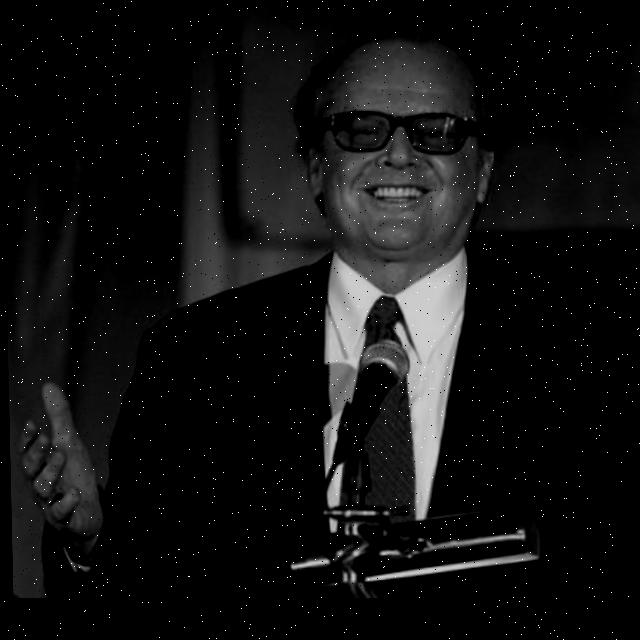face: (309, 29, 490, 266)
